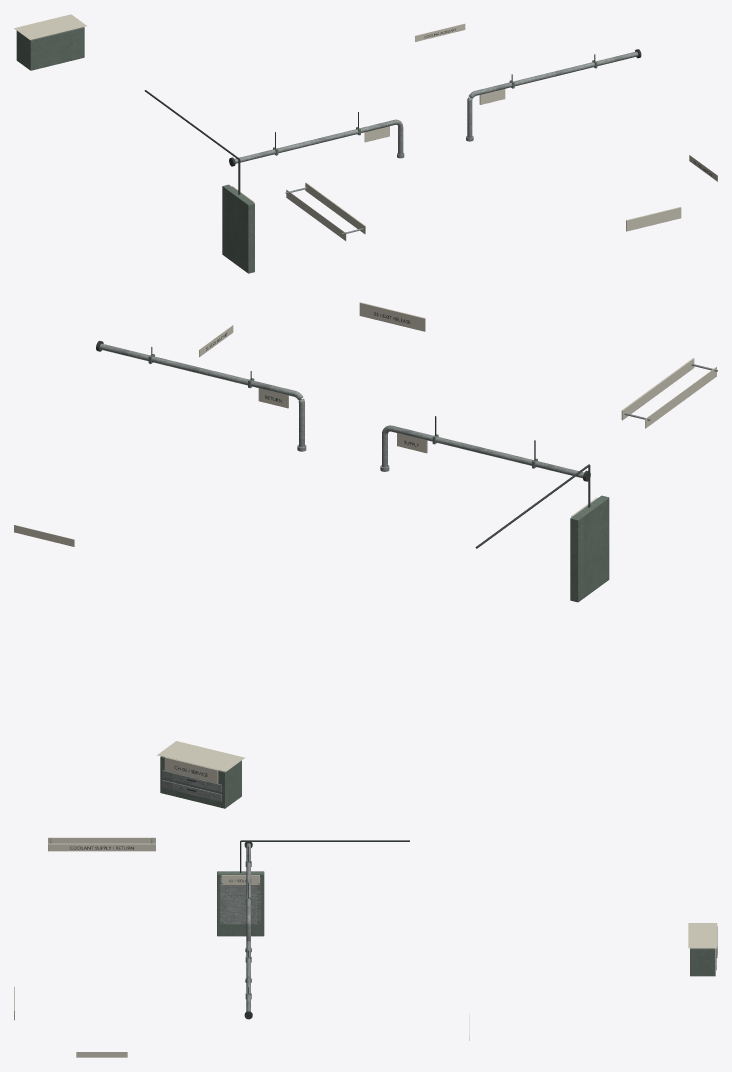
File: cooling_service.glb
The picture shows the model from 3 angles, top to bottom: view 1: azimuth 30°, elevation 25°; view 2: azimuth 150°, elevation 25°; view 3: azimuth 270°, elevation 25°; orthographic projection. The views are drawn at different scales.
Parts seen in each view (by area): view 1: cooling_service / power_sage_enamel, cooling_service / power_instrument_ivory, cooling_service / power_galvanized, cooling_service / power_blackened_steel; view 2: cooling_service / power_instrument_ivory, cooling_service / power_sage_enamel, cooling_service / power_galvanized, cooling_service / power_blackened_steel; view 3: cooling_service / power_instrument_ivory, cooling_service / power_galvanized, cooling_service / power_sage_enamel, cooling_service / power_blackened_steel.
Part boxes in pixels (x1,y1,x2,y2): cooling_service / power_sage_enamel: (16, 27, 597, 273); cooling_service / power_instrument_ivory: (14, 14, 717, 240); cooling_service / power_galvanized: (234, 51, 638, 234); cooling_service / power_blackened_steel: (144, 28, 711, 194); cooling_service / power_instrument_ivory: (14, 302, 716, 783); cooling_service / power_sage_enamel: (148, 354, 609, 808); cooling_service / power_galvanized: (99, 343, 717, 801); cooling_service / power_blackened_steel: (96, 312, 590, 791); cooling_service / power_instrument_ivory: (14, 837, 717, 1057); cooling_service / power_galvanized: (50, 837, 716, 1011); cooling_service / power_sage_enamel: (217, 861, 715, 999); cooling_service / power_blackened_steel: (70, 840, 717, 1019).
Bounding box in the file's own units: 13.81 × 3.81 × 22.85.
4 materials, 2 textured.
